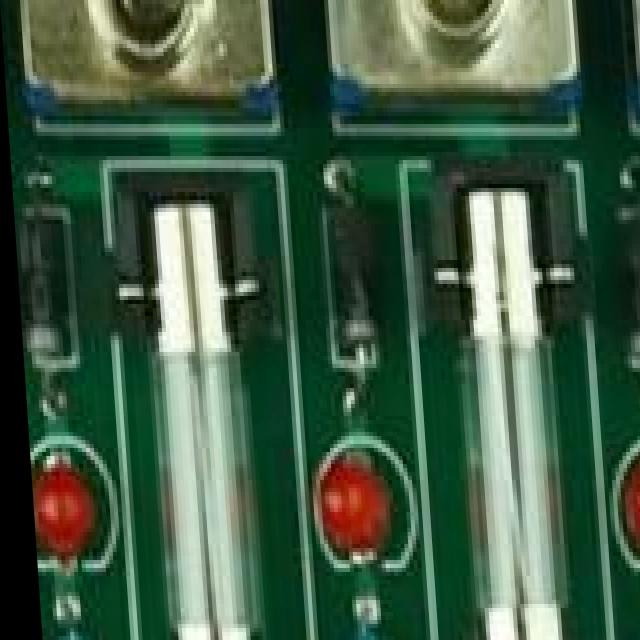LED: (308, 452, 386, 570), (23, 440, 97, 552), (615, 440, 640, 560)
diode: (317, 204, 384, 386), (11, 212, 75, 360), (603, 204, 640, 360)
fuse: (405, 164, 606, 640), (108, 160, 294, 640)
resistor: (328, 608, 386, 640), (36, 612, 98, 640), (637, 628, 640, 640)
switch: (20, 0, 274, 120), (320, 0, 578, 108), (636, 0, 640, 104)
